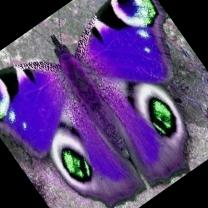butterfly: (0, 0, 188, 207)
